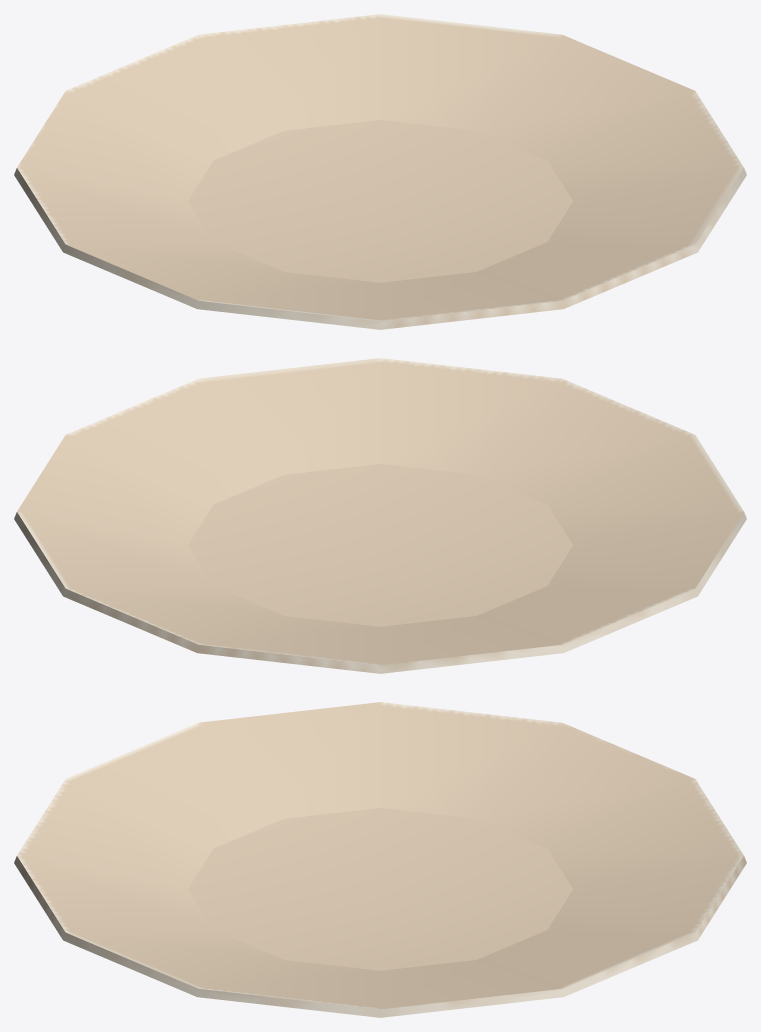
The model's file is SandwichDish.fbx.
3 views of the same model, one above another, from view 1: azimuth 30°, elevation 25°; view 2: azimuth 150°, elevation 25°; view 3: azimuth 270°, elevation 25° (orthographic).
Visible parts, largest first — view 1: pCylinder15; view 2: pCylinder15; view 3: pCylinder15.
Part boxes in pixels (x1,y1,x2,y2): pCylinder15: (14, 14, 746, 329); pCylinder15: (14, 358, 746, 673); pCylinder15: (14, 702, 746, 1017).
Bounding box in the file's own units: 2.16 × 0.1514 × 2.16.
